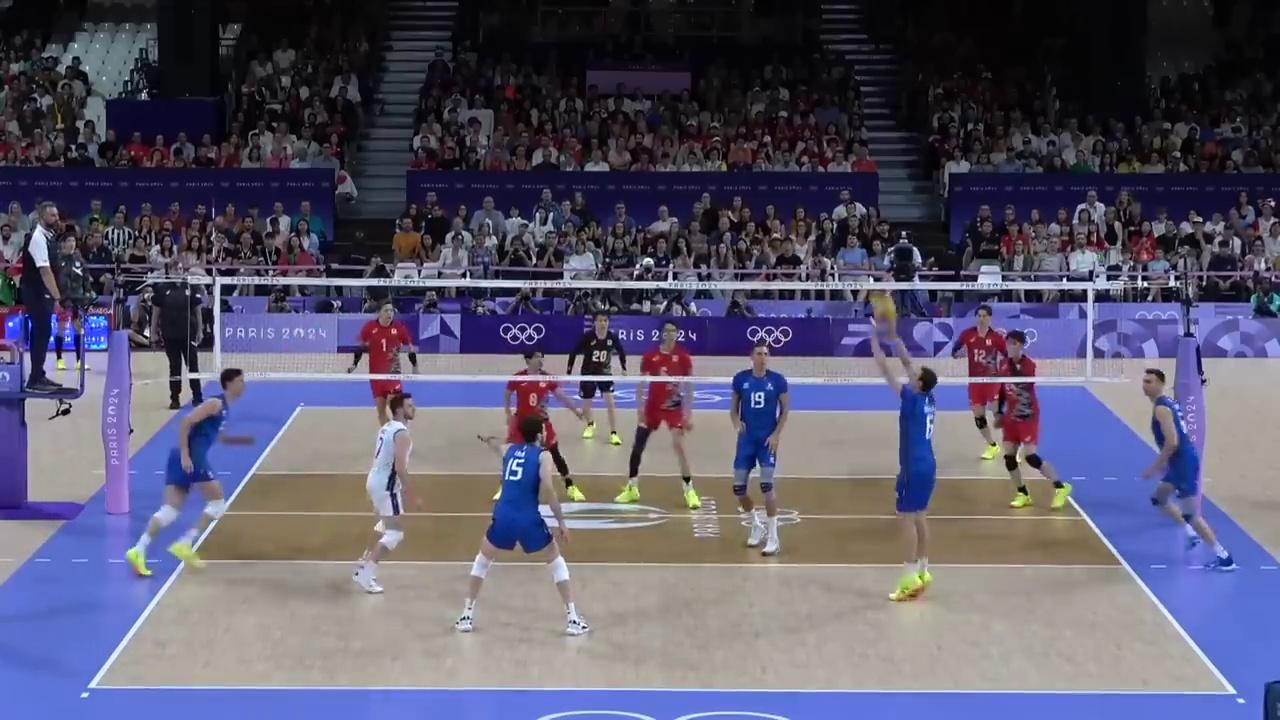ball: (872, 297, 894, 331)
